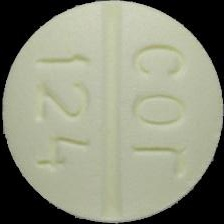54868-3266: (0, 0, 224, 224)
